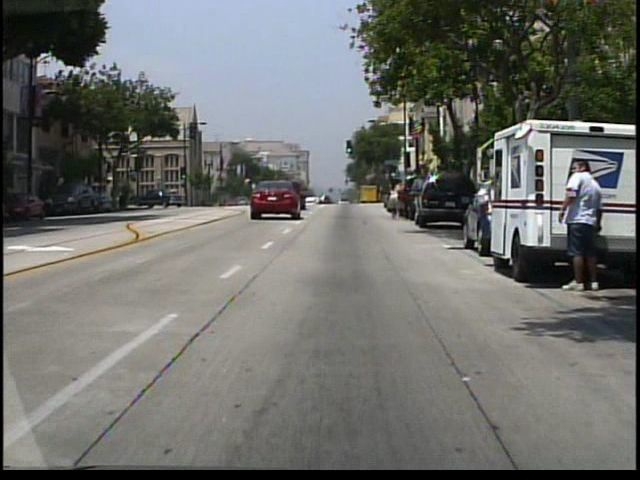person: (554, 160, 600, 290), (385, 176, 407, 222)
